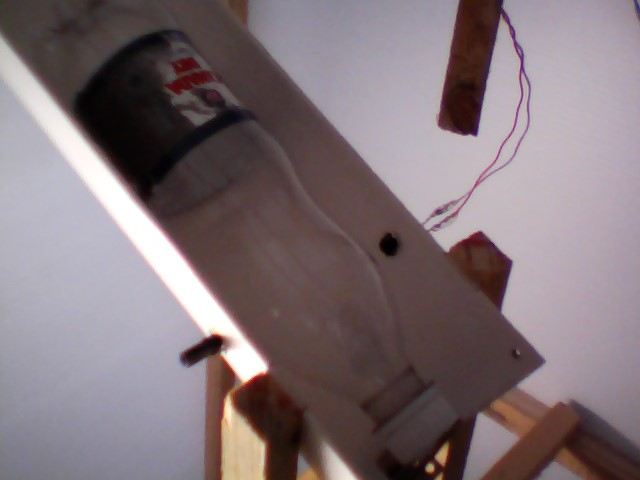plastico: (23, 1, 465, 464)
